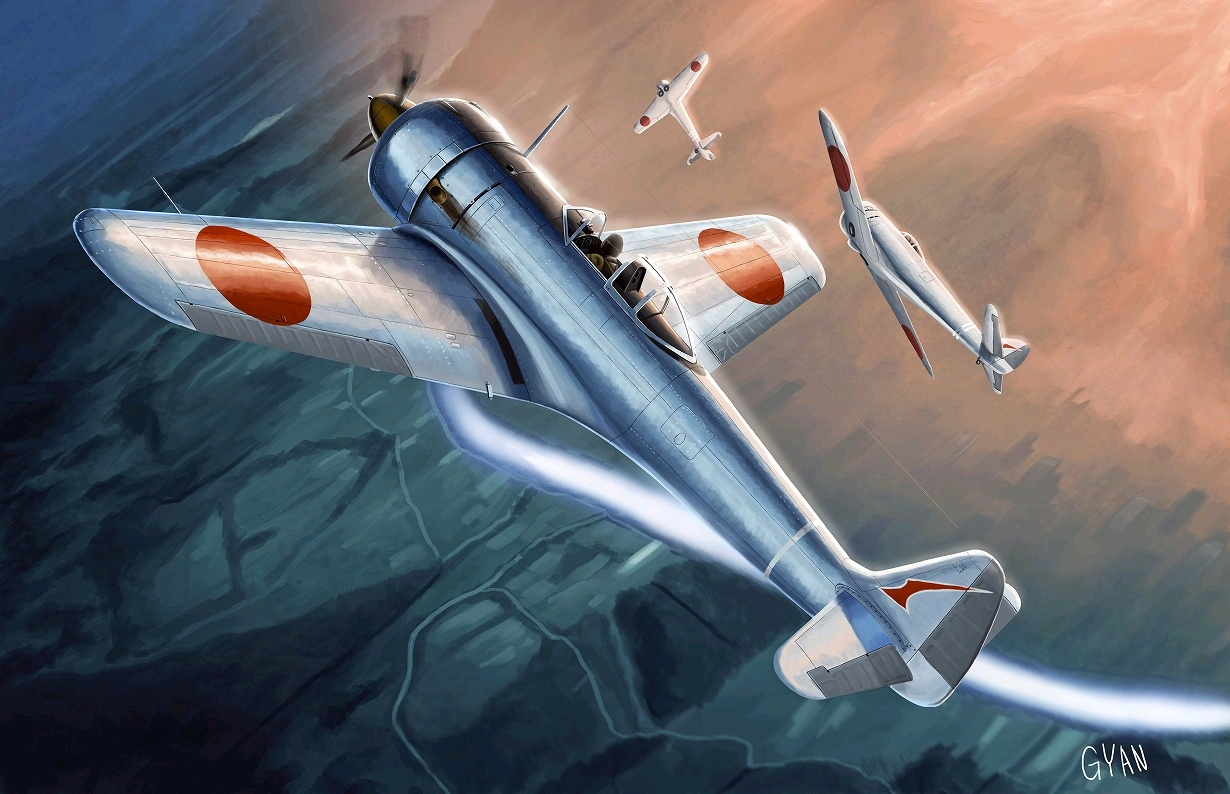airplane: (53, 81, 1024, 711), (808, 93, 1041, 391), (615, 48, 743, 167)
